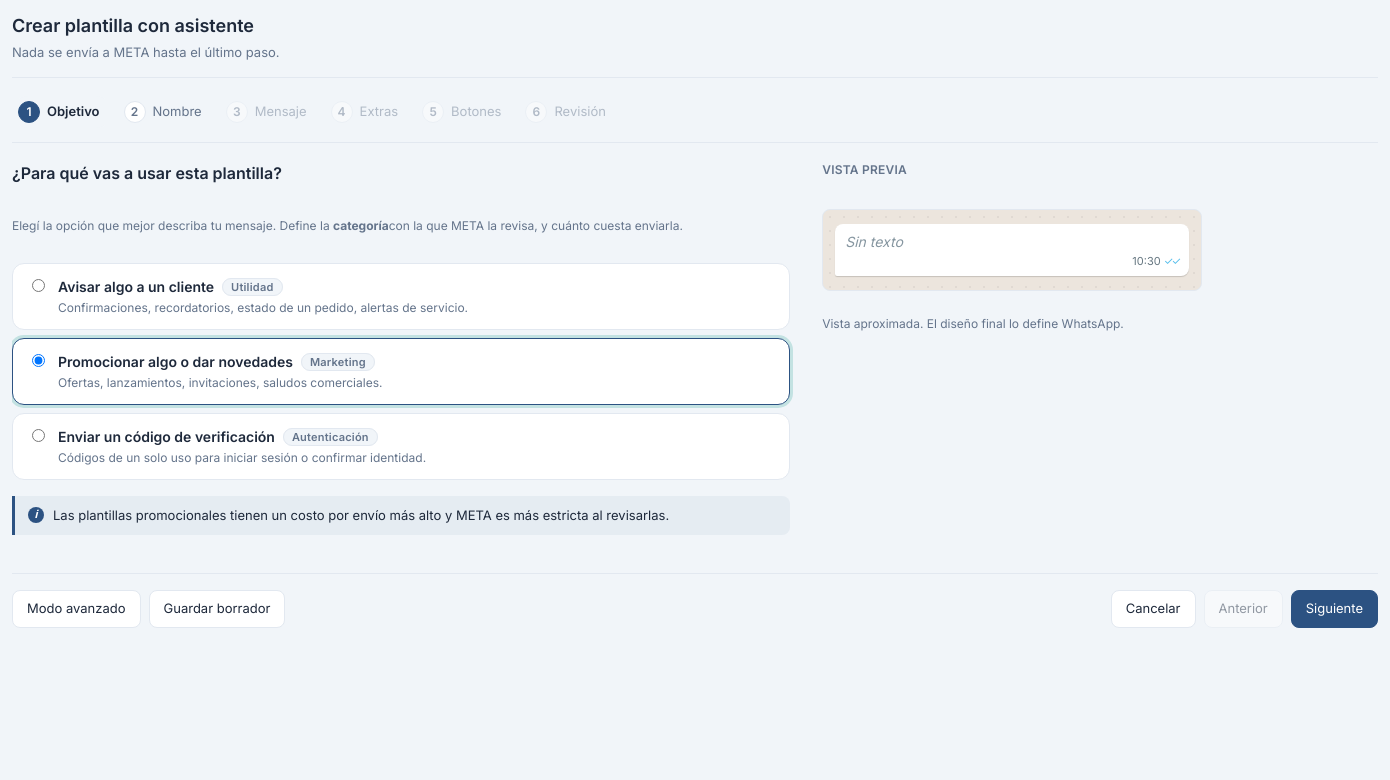
Test: TemplateEditor › el botón de borrador avisa que no se envió nada a META
What coordinates should you click on to do the following:
click the button "Guardar borrador"
I would click on:
 (217, 609)
Its box is [148, 590, 285, 628].
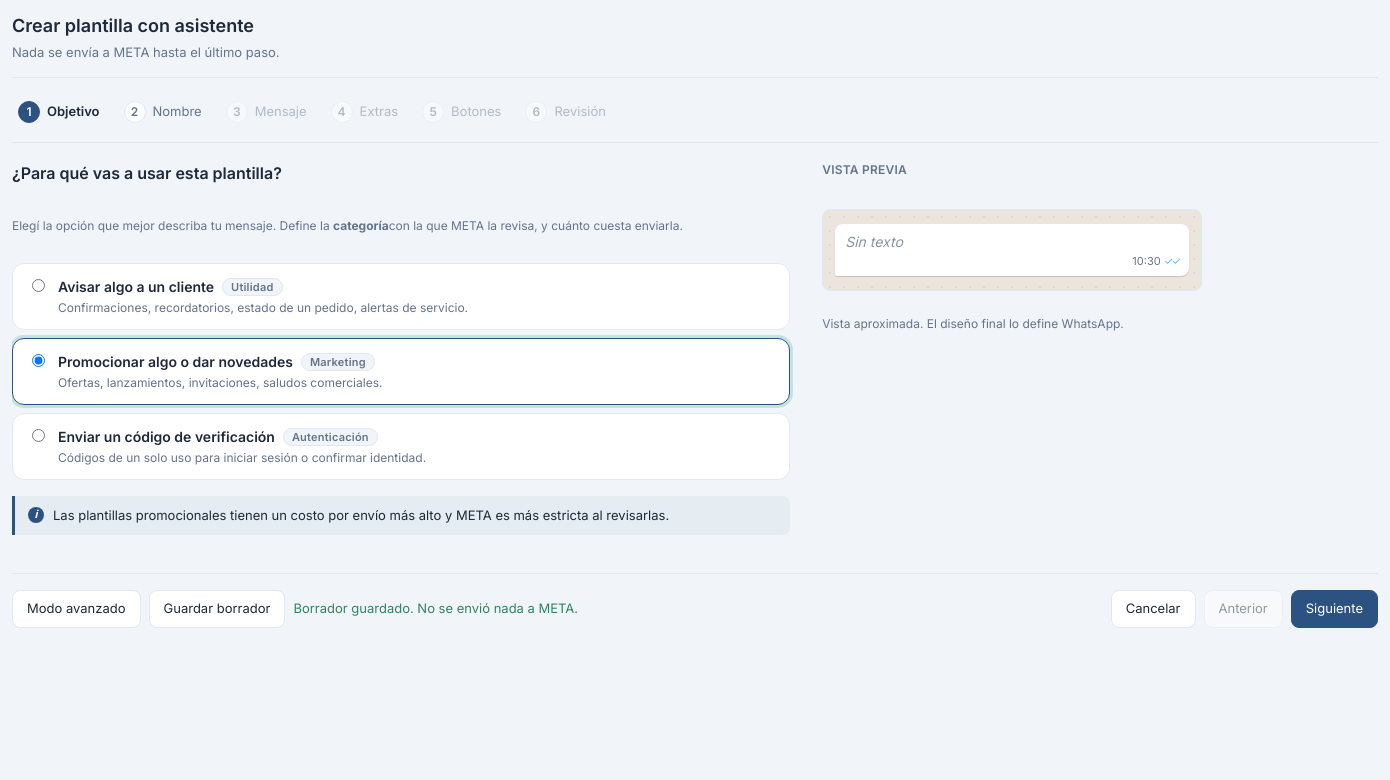
Expected: the text "Borrador guardado. No se envió nada a META." is shown, [293, 599, 578, 618]
